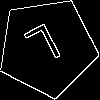L: (22, 22, 68, 76)
